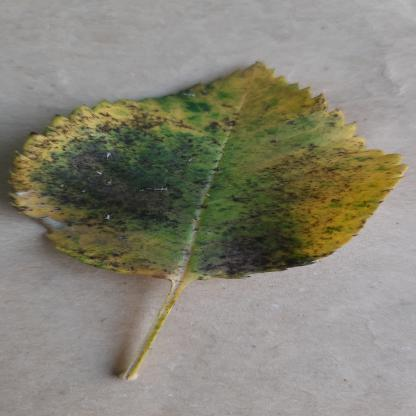black-spot: (15, 58, 401, 284)
